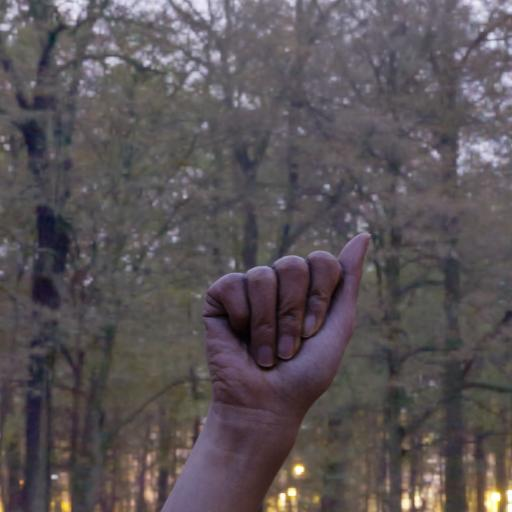A: (183, 224, 382, 484)
